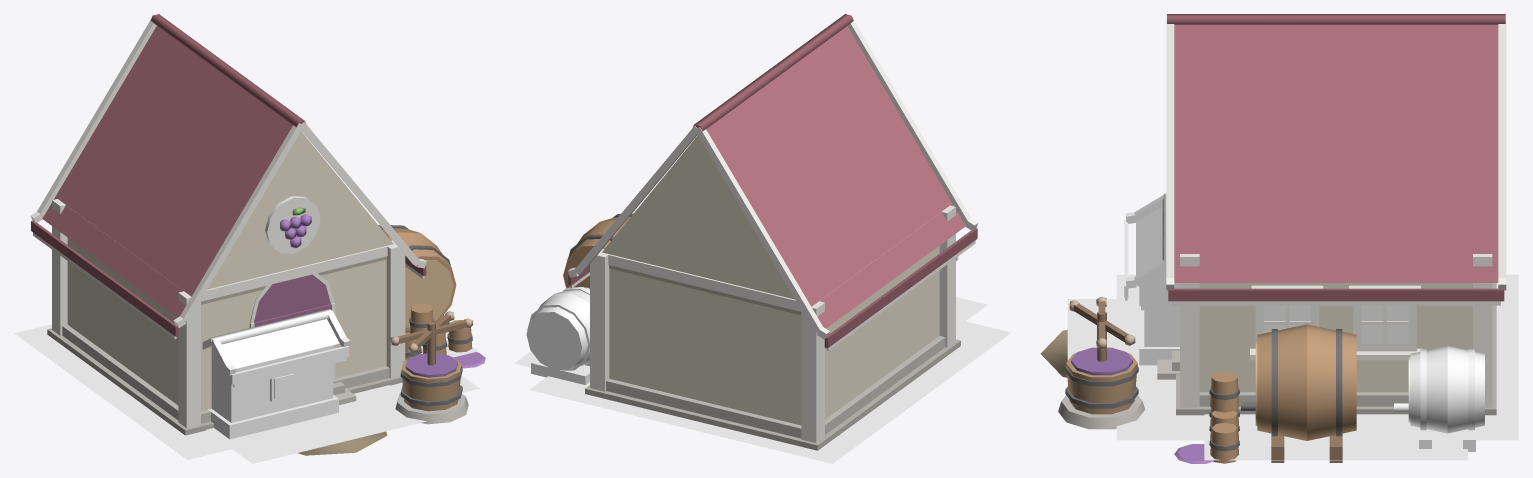
File: winery_2.glb
3 renders of one model, left to right at view 1: azimuth 30°, elevation 25°; view 2: azimuth 150°, elevation 25°; view 3: azimuth 270°, elevation 25°, orthographic. The views are drawn at different scales.
Parts seen in each view (by area): view 1: body5, when_plan_true, winery_2, body3, spin_110_0; view 2: body5, winery_2, when_plan_true; view 3: body5, winery_2, when_plan_true, body3, body4.
Part boxes in pixels (bbox=[...]): body5: bbox=[30, 14, 468, 455]; when_plan_true: bbox=[202, 308, 350, 439]; winery_2: bbox=[14, 324, 479, 463]; body3: bbox=[409, 304, 485, 368]; spin_110_0: bbox=[390, 318, 472, 345]; body5: bbox=[563, 14, 977, 450]; winery_2: bbox=[514, 297, 1011, 463]; when_plan_true: bbox=[526, 256, 958, 384]; body5: bbox=[1040, 14, 1506, 462]; winery_2: bbox=[1067, 274, 1518, 460]; when_plan_true: bbox=[1124, 193, 1484, 451]; body3: bbox=[1174, 371, 1239, 463]; body4: bbox=[1069, 300, 1135, 345].
Size of the model in its own units: 2.65 by 2.2 by 2.8.
